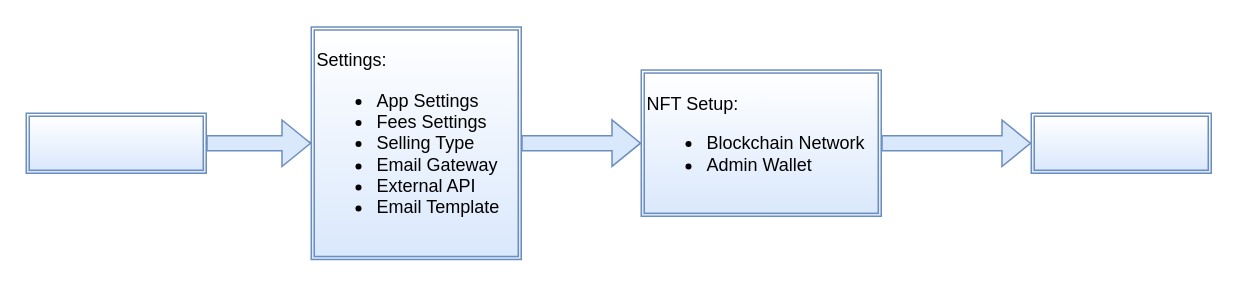
Image size: 1238x285. Some labels were removed from this diagram. The shapes that lost their labels are listed below. From the top down, each one's box as (x1, y1, x2, y2) in pixels, then its label:
(25, 112, 206, 173): Admin Panel
(1030, 112, 1211, 173): Contract Deploy
